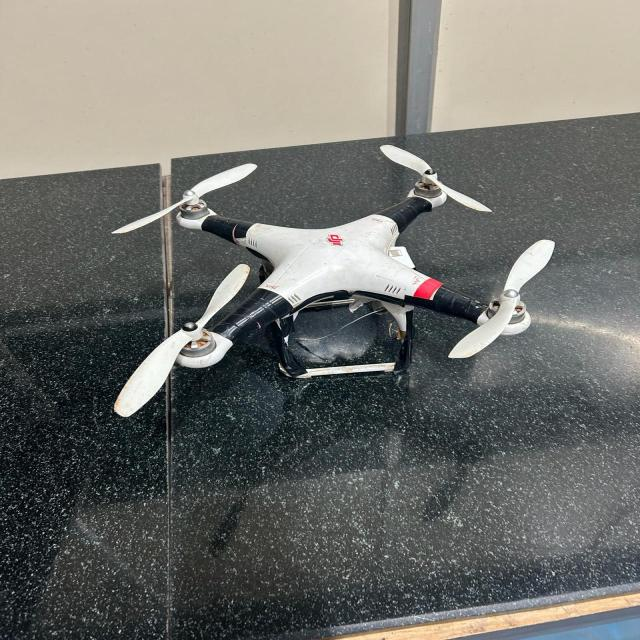drone: (107, 126, 577, 434)
